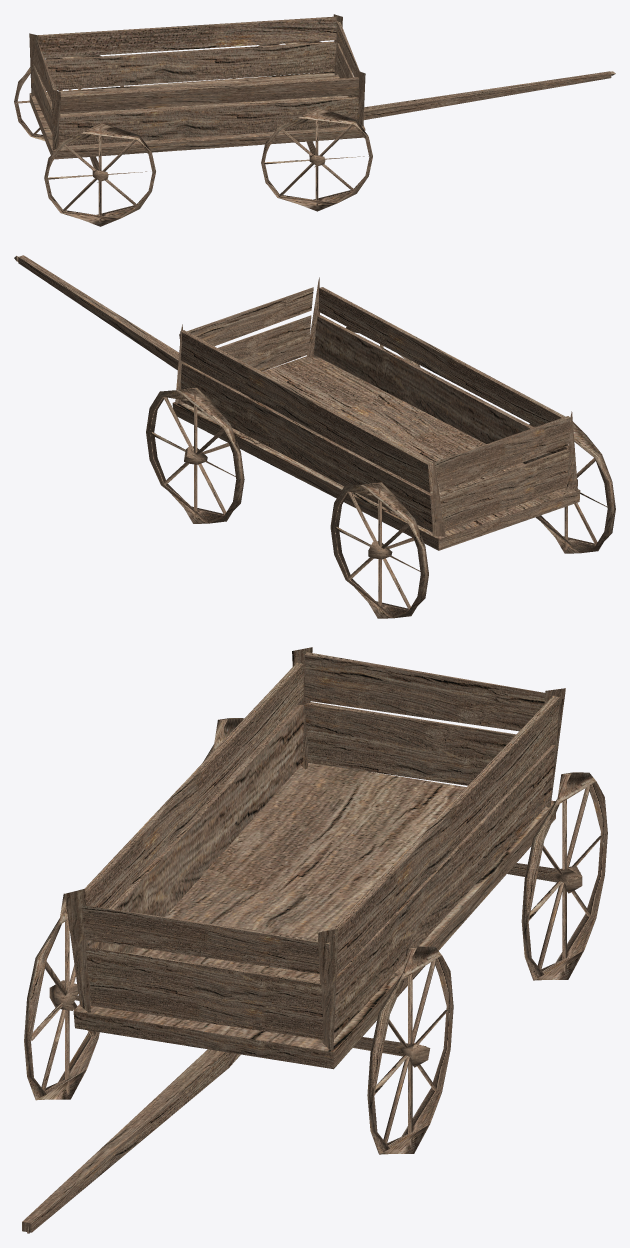
The model's file is Building03.fbx.
3 views of the same model, one above another, from view 1: azimuth 30°, elevation 25°; view 2: azimuth 150°, elevation 25°; view 3: azimuth 270°, elevation 25° (orthographic). The views are drawn at different scales.
Parts seen in each view (by area): view 1: BUILDING:Cube.014; view 2: BUILDING:Cube.014; view 3: BUILDING:Cube.014.
Part boxes in pixels (left/top/right/bottom): BUILDING:Cube.014: left=14, top=14, right=615, bottom=226; BUILDING:Cube.014: left=14, top=255, right=615, bottom=618; BUILDING:Cube.014: left=22, top=647, right=607, bottom=1233.
Size of the model in its own units: 130 by 30.61 by 64.17.
1 material, 1 textured.
